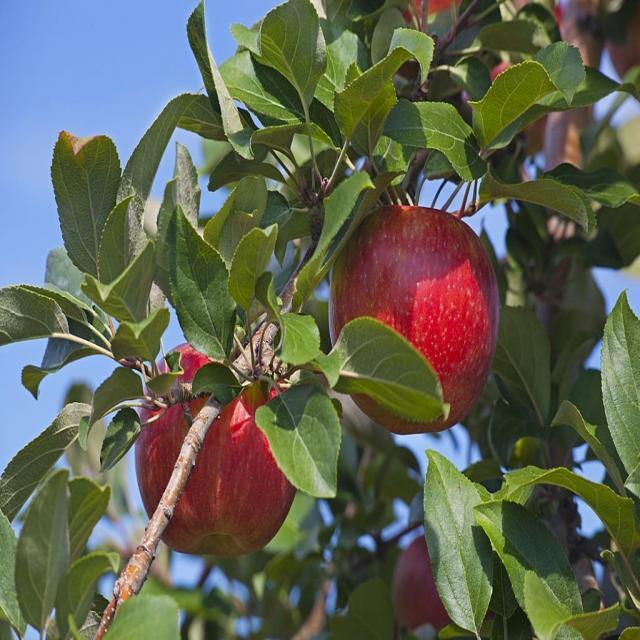Red Apple: (335, 200, 495, 430), (137, 350, 300, 547)
